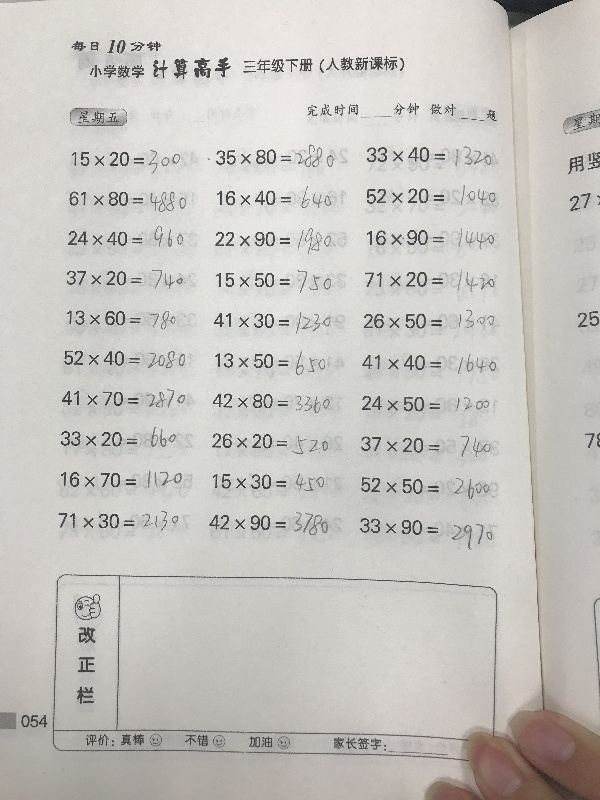equation: (356, 514, 497, 553), (212, 224, 336, 258), (204, 141, 339, 172), (357, 474, 493, 504), (206, 505, 332, 537), (360, 264, 499, 292), (357, 430, 493, 458), (212, 348, 330, 380), (363, 180, 497, 208), (214, 183, 335, 214), (211, 308, 335, 338), (212, 267, 336, 297), (362, 348, 499, 375), (68, 146, 185, 177), (57, 386, 189, 413), (364, 143, 496, 170), (208, 429, 332, 457), (57, 423, 181, 451), (55, 507, 183, 534), (361, 308, 497, 333), (63, 188, 188, 215), (61, 347, 190, 373), (63, 266, 187, 293), (362, 224, 495, 249), (208, 389, 334, 415), (358, 391, 492, 415), (64, 307, 180, 334), (57, 467, 186, 491), (208, 469, 328, 494), (63, 225, 188, 249)
